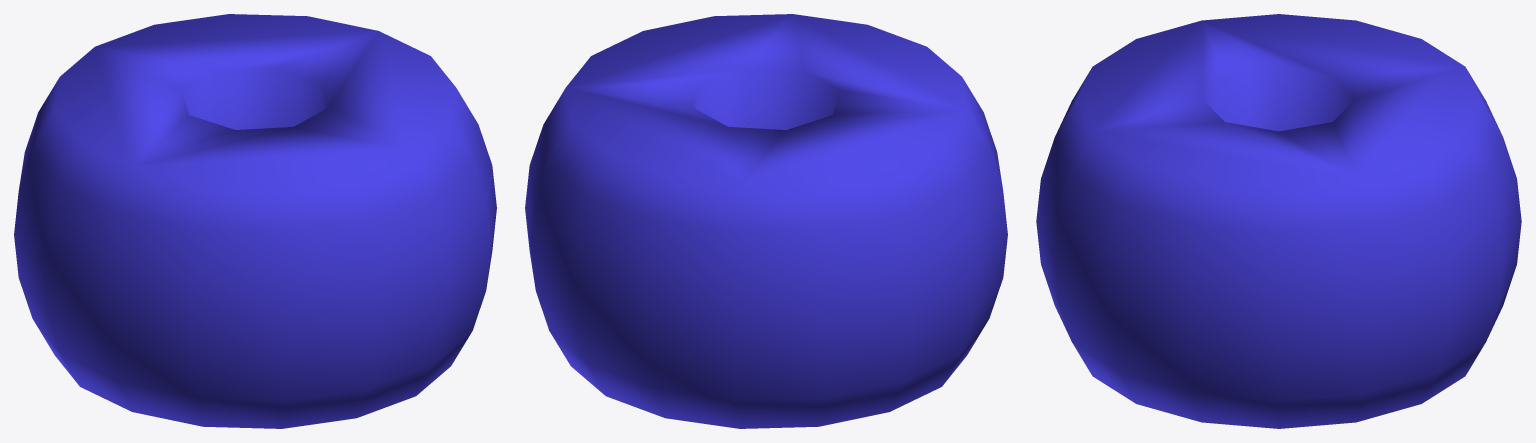
Rendered from roundbead.gltf.
3 renders of one model, left to right at view 1: azimuth 30°, elevation 25°; view 2: azimuth 150°, elevation 25°; view 3: azimuth 270°, elevation 25°, orthographic.
Parts seen in each view (by area): view 1: Sphere; view 2: Sphere; view 3: Sphere.
Boxes of the visible parts, bbox=[...] form: Sphere: bbox=[14, 14, 496, 428]; Sphere: bbox=[525, 14, 1007, 428]; Sphere: bbox=[1036, 14, 1521, 428].
Size of the model in its own units: 2 by 1.11 by 2.
